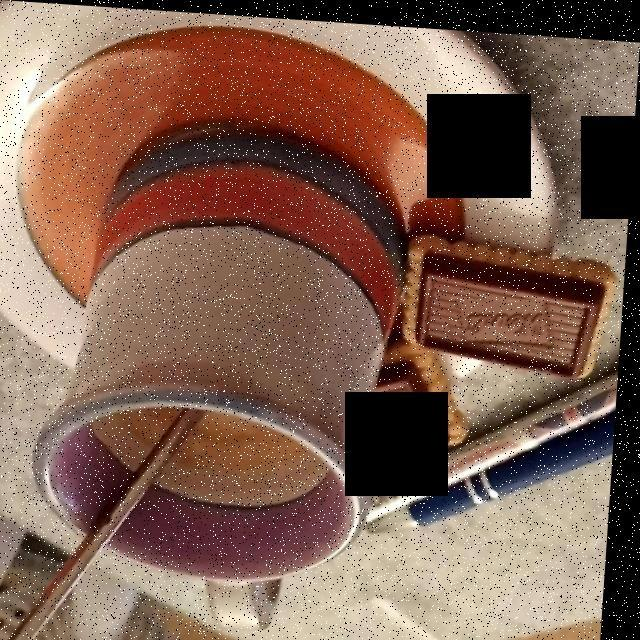coffee: (126, 414, 307, 470)
